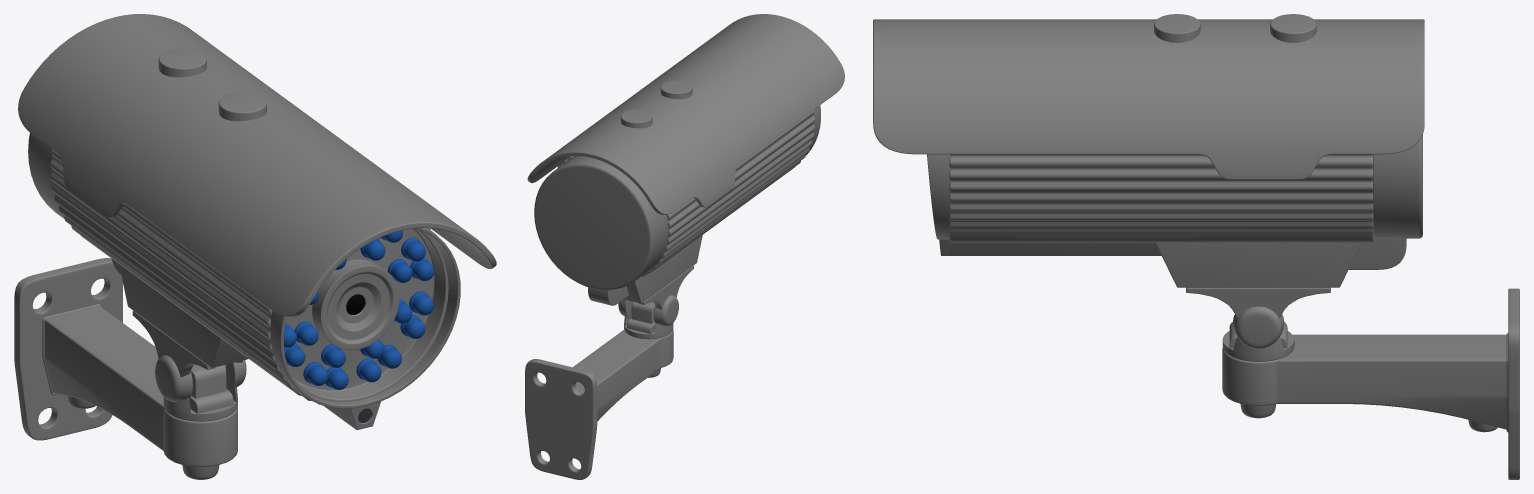
File: camera.glb
3 renders of one model, left to right at view 1: azimuth 30°, elevation 25°; view 2: azimuth 150°, elevation 25°; view 3: azimuth 270°, elevation 25°, orthographic. The views are drawn at different scales.
Parts seen in each view (by area): view 1: archmodels95_044_001.3, archmodels95_044_003.6; view 2: archmodels95_044_001.3; view 3: archmodels95_044_001.3.
Boxes of the visible parts, <box> form: archmodels95_044_001.3: <box>14,14,496,479</box>; archmodels95_044_003.6: <box>283,230,434,389</box>; archmodels95_044_001.3: <box>525,14,844,479</box>; archmodels95_044_001.3: <box>873,14,1519,479</box>.
Size of the model in its own units: 3.35 by 6.61 by 8.77.
